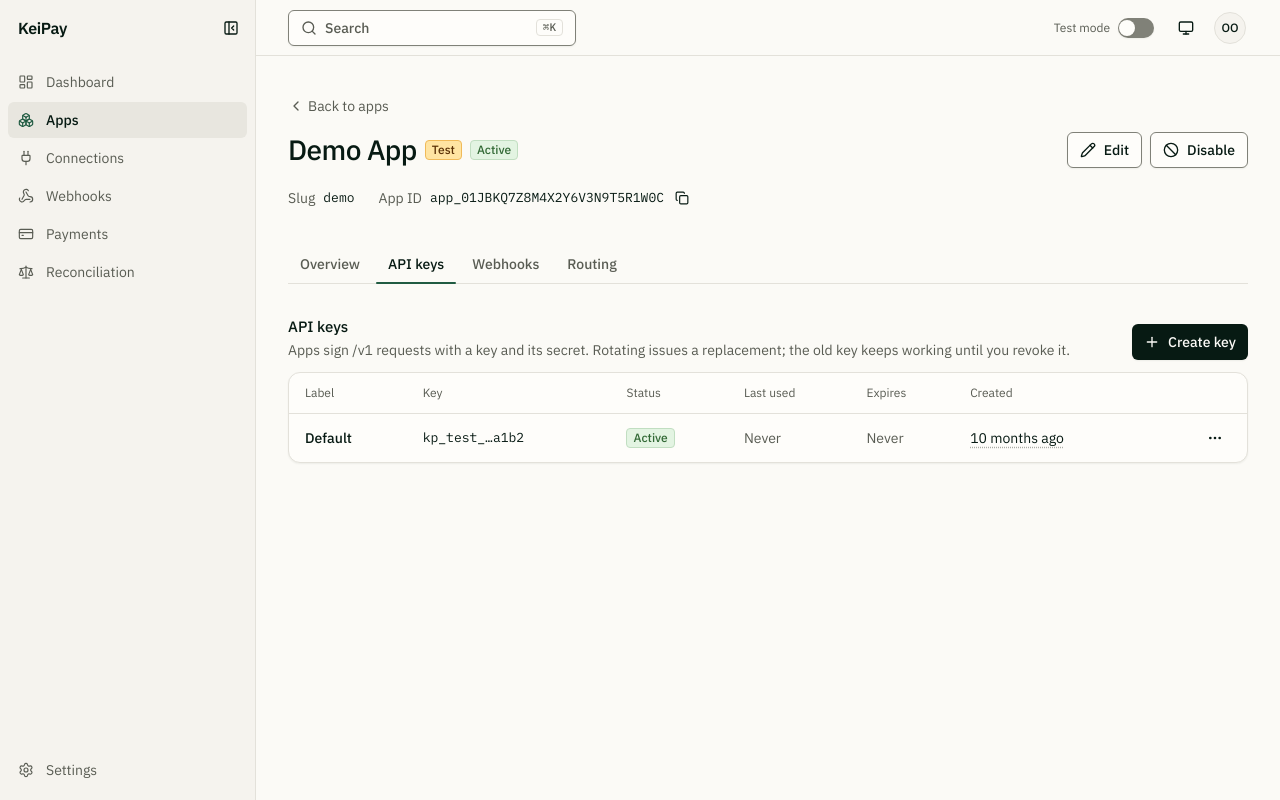
API keys tab › shows a rotate refusal as a toast
Click the button named "Actions for key Default (kp_test_…a1b2)".
click(1215, 438)  # box [1199,422,1231,454]
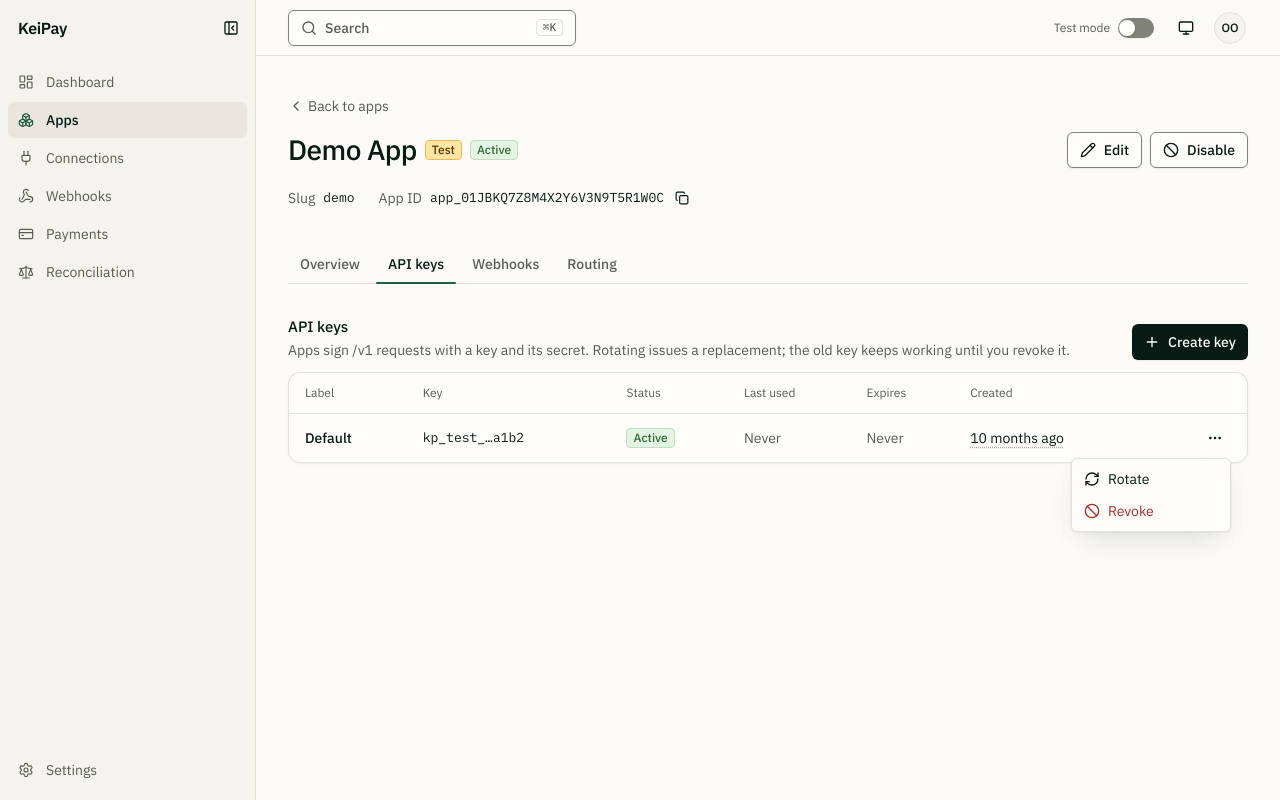
Click the menu item "Rotate".
click(1117, 479)  # box [1084,470,1150,488]
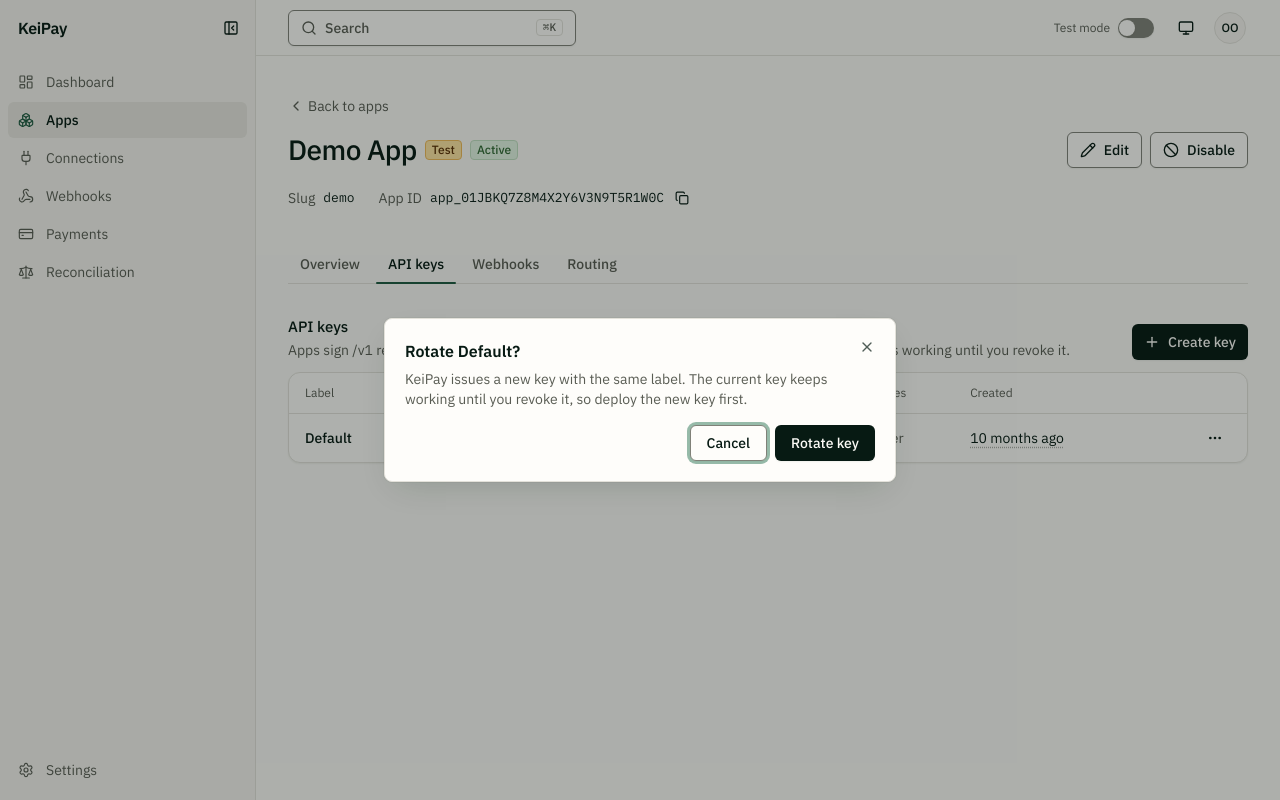
Click the button "Rotate key".
click(825, 443)  # box [775,425,875,461]
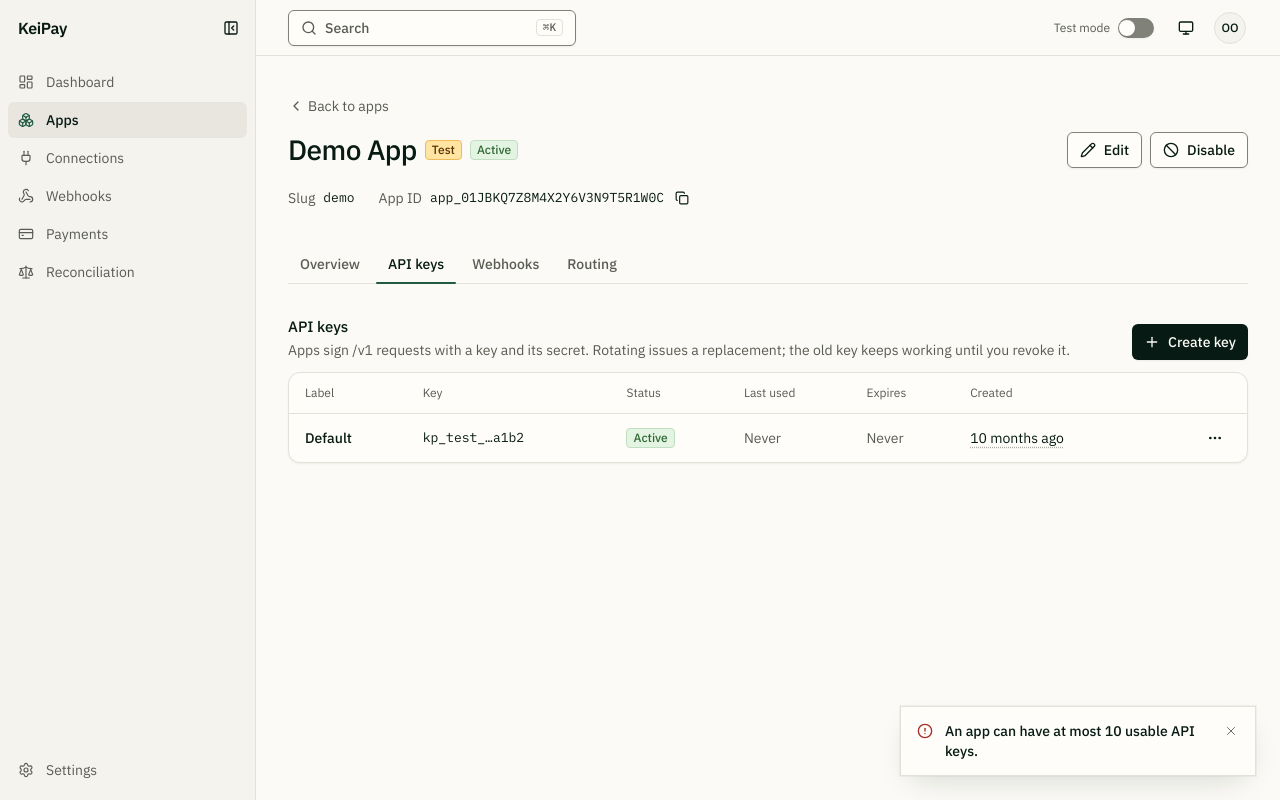
Check: the text "An app can have at most 10 usable API keys." is shown, box [945,721,1211,761]
